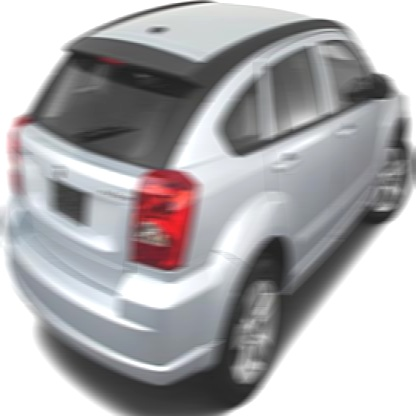Vehicle: (1, 3, 415, 408)
